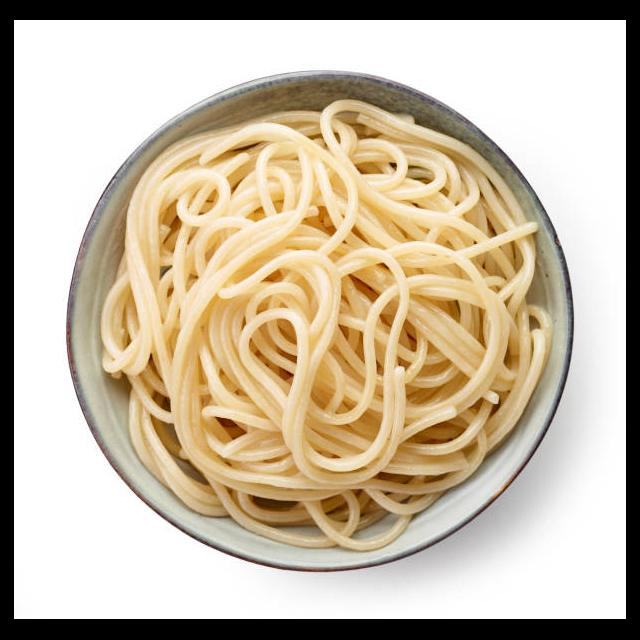noodles: (100, 100, 551, 552)
